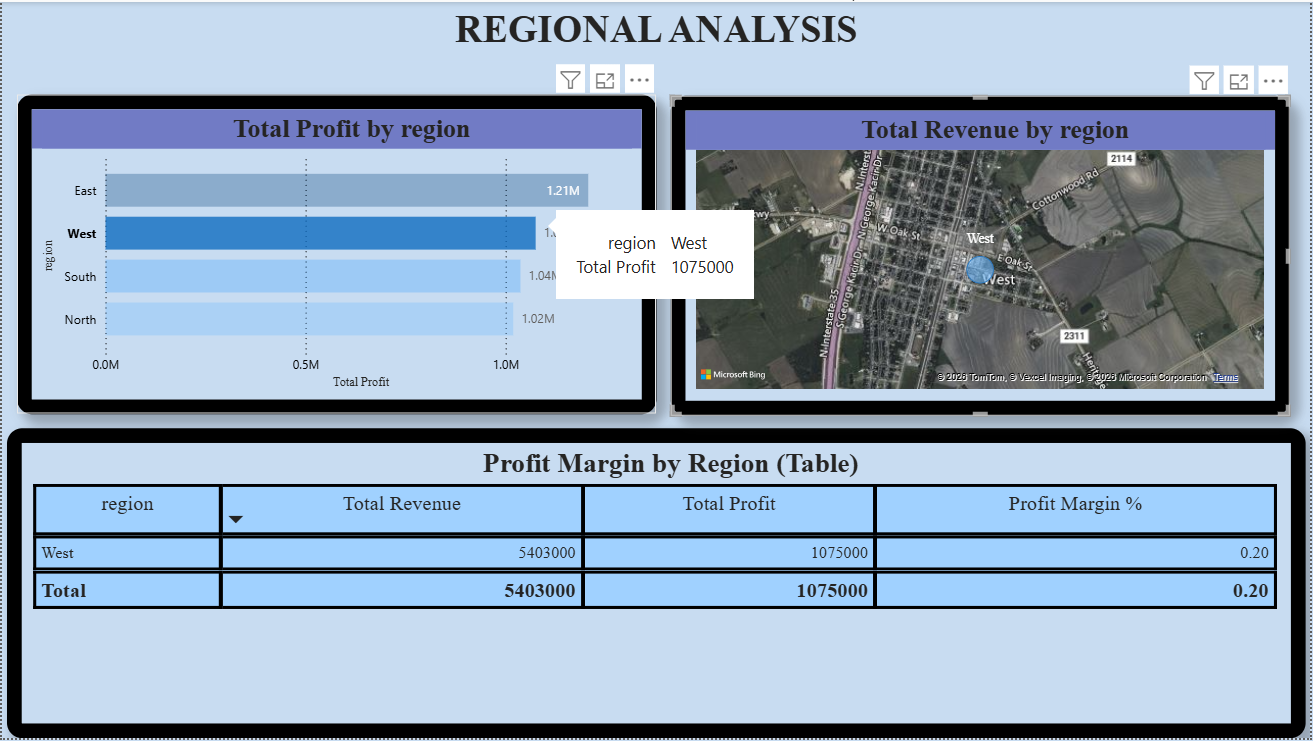

Layout of this report page (visuals, bound fields, positions):
{"tool":"powerbi","page":{"name":"REGIONAL ANALYSIS","canvas":[1280,720],"ordinal":2},"visuals":[{"type":"textbox","box":[0,0,1280,58.6],"z":0},{"type":"clusteredBarChart","fields":{"Category":["Sales_Data_FIXED.region"],"Y":["Sales_Data_FIXED.Total Profit"]},"box":[14.3,90,625.7,312.9],"z":1000},{"type":"map","fields":{"Category":["Sales_Data_FIXED.region"],"Size":["Sales_Data_FIXED.Total Revenue"]},"box":[654.3,91.4,605.7,312.9],"z":2000},{"type":"tableEx","title":"Profit Margin by Region (Table) ","fields":{"Values":["Sales_Data_FIXED.region","Sales_Data_FIXED.Total Revenue","Sales_Data_FIXED.Total Profit","Sales_Data_FIXED.Profit Margin %"]},"box":[4.3,417.1,1270,302.9],"z":3000}]}

Visuals, with their boxes in screenshot pixels (x1, y1, x2, y2), scaled from the page's 1280x720 canvas onto the 1313x741 screenshot:
textbox: pyautogui.locateOnScreen(0, 0, 1312, 60)
clusteredBarChart - Sales_Data_FIXED.region x Sales_Data_FIXED.Total Profit: pyautogui.locateOnScreen(15, 93, 656, 415)
map - Sales_Data_FIXED.region x Sales_Data_FIXED.Total Revenue: pyautogui.locateOnScreen(671, 94, 1292, 416)
"Profit Margin by Region (Table) " tableEx: pyautogui.locateOnScreen(4, 429, 1307, 740)
